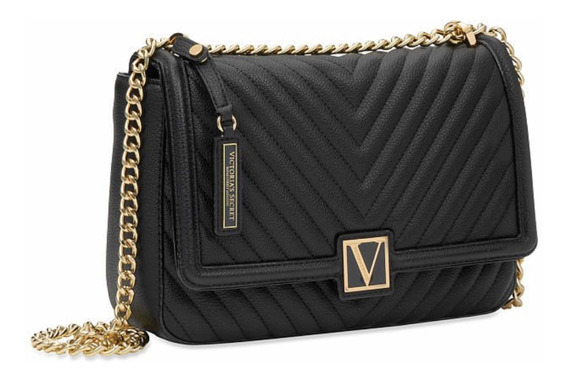cartera: (105, 20, 540, 346)
